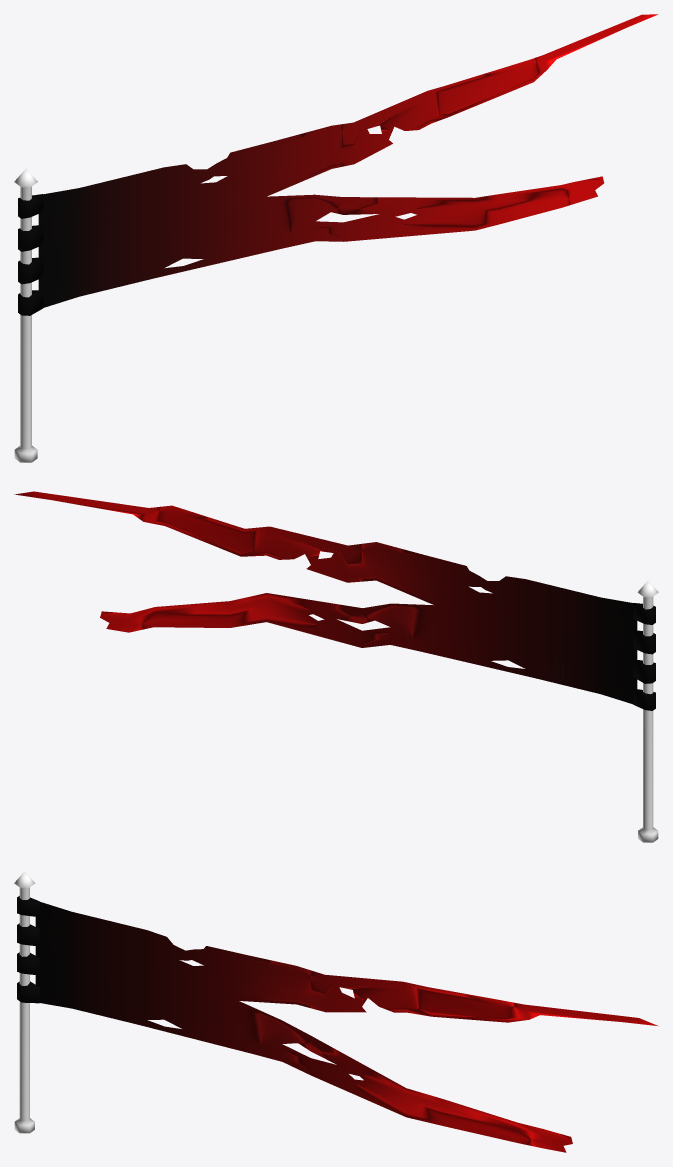
The model's file is SM_Prop_Flag_02.fbx.
3 views of the same model, one above another, from view 1: azimuth 30°, elevation 25°; view 2: azimuth 150°, elevation 25°; view 3: azimuth 330°, elevation 25° (orthographic). The views are drawn at different scales.
Visible parts, largest first — view 1: SM_Prop_Flag_02; view 2: SM_Prop_Flag_02; view 3: SM_Prop_Flag_02.
Boxes of the visible parts, left/top/right/bottom form: SM_Prop_Flag_02: left=14, top=14, right=658, bottom=462; SM_Prop_Flag_02: left=14, top=491, right=658, bottom=842; SM_Prop_Flag_02: left=14, top=871, right=658, bottom=1152.
Bounding box in the file's own units: 1321 × 537 × 168.
